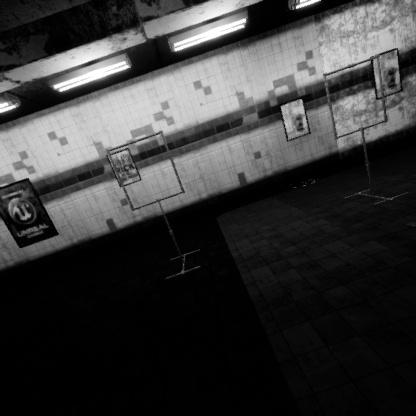gate: (106, 203, 190, 286), (324, 275, 393, 362)
